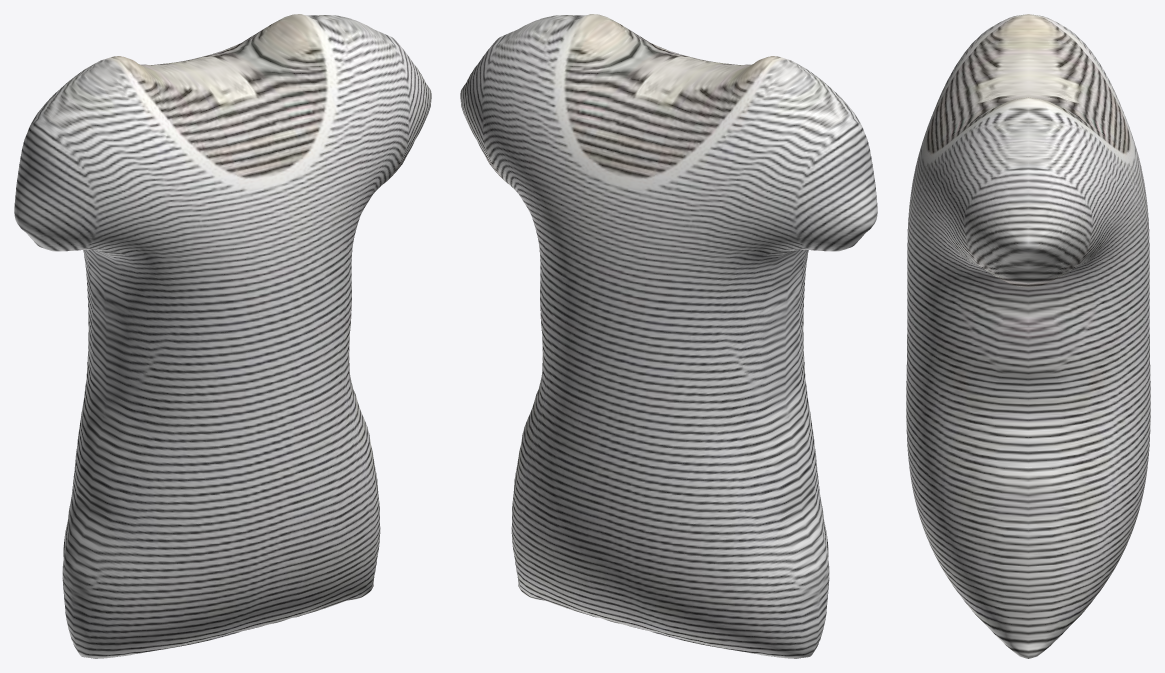
The model's file is AM221D066-A11@2=cloth_front.glb.
The picture shows the model from 3 angles, left to right: view 1: azimuth 30°, elevation 25°; view 2: azimuth 150°, elevation 25°; view 3: azimuth 270°, elevation 25°; orthographic projection. The views are drawn at different scales.
Size of the model in its own units: 4.63 by 6.41 by 2.64.
1 material, 1 textured.
